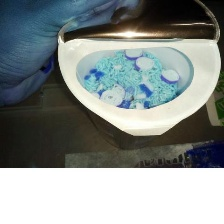paper_cup: (52, 0, 222, 154)
